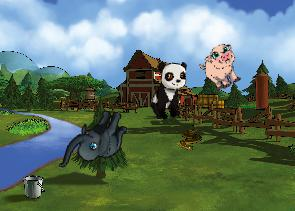elephant: (57, 99, 131, 182)
panda: (149, 59, 189, 122)
pig: (195, 40, 248, 94)
